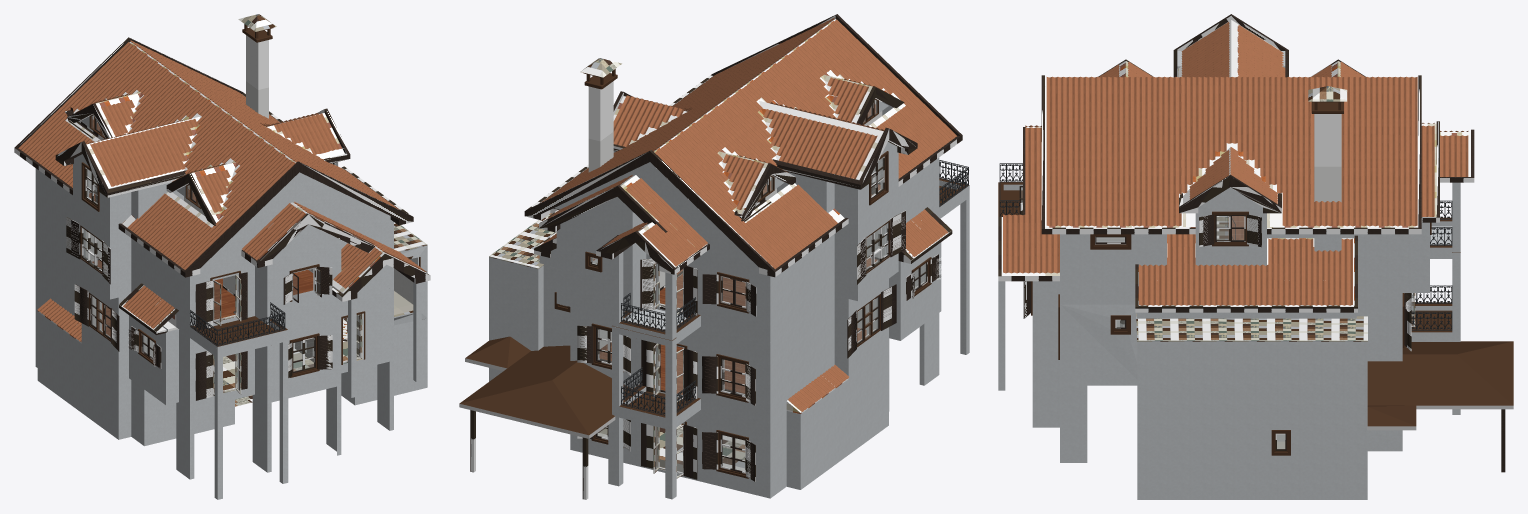
File: architecture.glb
3 views of the same model, side by side, from view 1: azimuth 30°, elevation 25°; view 2: azimuth 150°, elevation 25°; view 3: azimuth 270°, elevation 25° (orthographic). The views are drawn at different scales.
Visible parts, largest first — view 1: architecture-other-9, architecture-tile-1, architecture-wood-2, architecture-other-4, architecture-tile-7, architecture-glass-3, architecture-plaster-0, architecture-metal-6, architecture-plaster-5, architecture-wood-10; view 2: architecture-other-9, architecture-tile-1, architecture-wood-2, architecture-other-4, architecture-glass-3, architecture-tile-7, architecture-metal-6, architecture-plaster-0, architecture-wood-10, architecture-plaster-5; view 3: architecture-tile-1, architecture-other-9, architecture-other-4, architecture-wood-2, architecture-tile-7, architecture-plaster-0, architecture-metal-6, architecture-glass-3.
Boxes of the visible parts, <box> form: architecture-other-9: <box>35,116,427,499</box>; architecture-tile-1: <box>18,40,426,341</box>; architecture-wood-2: <box>14,37,430,400</box>; architecture-other-4: <box>80,14,427,406</box>; architecture-tile-7: <box>37,42,427,343</box>; architecture-glass-3: <box>83,115,320,393</box>; architecture-plaster-0: <box>88,35,268,330</box>; architecture-metal-6: <box>190,302,285,346</box>; architecture-plaster-5: <box>85,230,418,399</box>; architecture-wood-10: <box>89,119,313,336</box>; architecture-other-9: <box>489,100,969,499</box>; architecture-tile-1: <box>539,17,956,411</box>; architecture-wood-2: <box>459,14,962,499</box>; architecture-other-4: <box>459,58,969,478</box>; architecture-glass-3: <box>592,100,925,476</box>; architecture-tile-7: <box>542,19,921,413</box>; architecture-metal-6: <box>621,160,968,415</box>; architecture-plaster-0: <box>588,81,882,307</box>; architecture-wood-10: <box>599,104,880,394</box>; architecture-plaster-5: <box>599,225,924,383</box>; architecture-tile-1: <box>1003,22,1468,305</box>; architecture-other-9: <box>998,51,1460,499</box>; architecture-other-4: <box>998,86,1513,455</box>; architecture-wood-2: <box>998,14,1513,472</box>; architecture-tile-7: <box>1001,20,1470,305</box>; architecture-plaster-0: <box>1314,114,1341,202</box>; architecture-metal-6: <box>999,163,1452,330</box>; architecture-glass-3: <box>1021,187,1413,448</box>.
Bounding box in the file's own units: 14.28 × 14.92 × 18.8.
11 materials, 11 textured.
